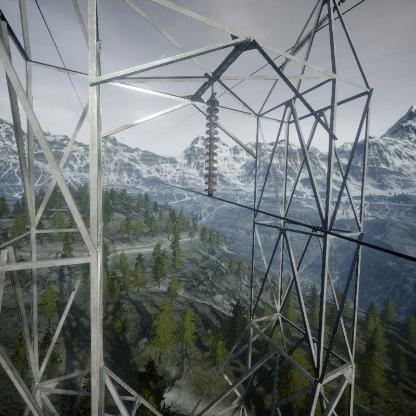insulator: (202, 94, 221, 195)
